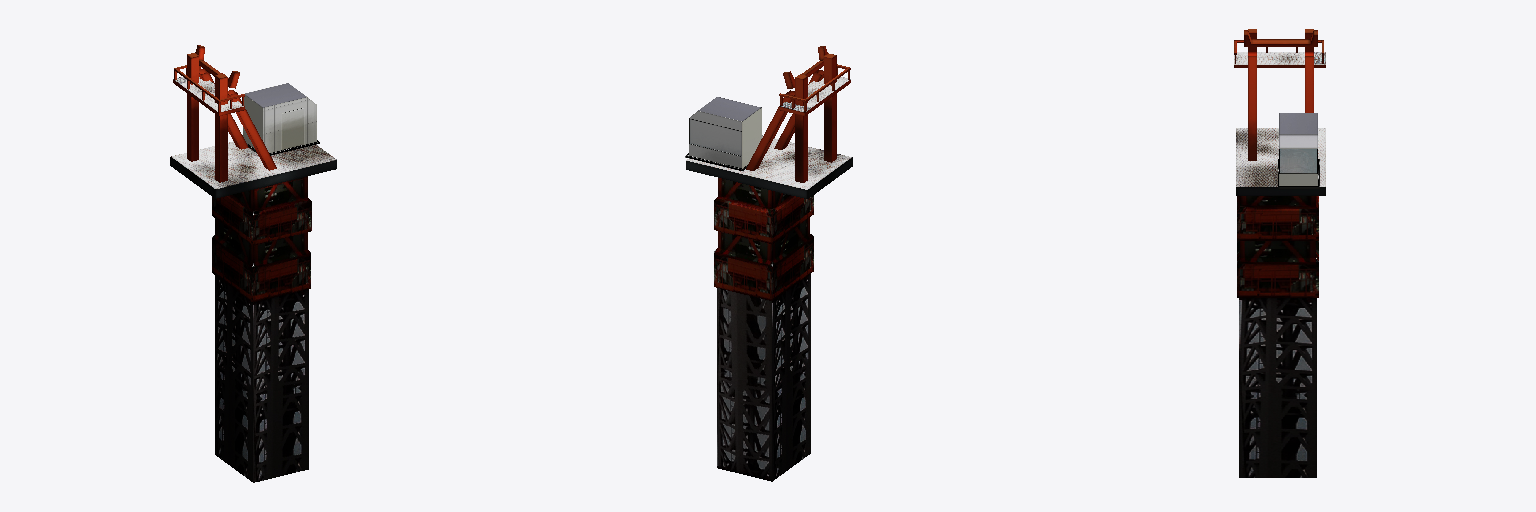
3 renders of one model, left to right at view 1: azimuth 30°, elevation 25°; view 2: azimuth 150°, elevation 25°; view 3: azimuth 270°, elevation 25°, orthographic.
Size of the model in its own units: 5.86 by 18.47 by 3.73.
Materials: 1 (1 with a texture image).